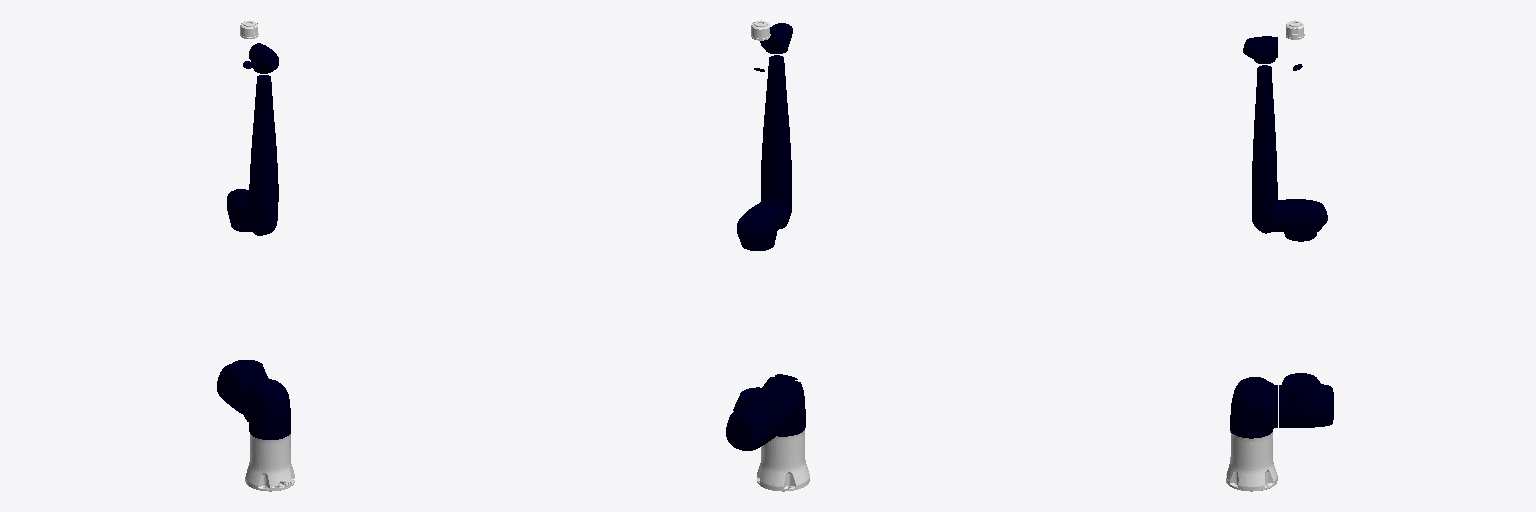
The robot description file, URDF, robot "p3020":
<?xml version="1.0" ?>
<!-- =================================================================================== -->
<!-- |    This document was autogenerated by xacro from /home/theochoi/ros2_ws/src/doosan-robot2-Theo/dsr_description2/xacro/p3020.urdf.xacro | -->
<!-- |    EDITING THIS FILE BY HAND IS NOT RECOMMENDED                                 | -->
<!-- =================================================================================== -->
<robot name="p3020">

  <mujoco>
        <compiler 
        meshdir="assets" 
        balanceinertia="true" 
        discardvisual="false" />
  </mujoco>

  
  <material name="black">
    <color rgba="0.0 0.0 0.0 1.0"/>
  </material>
  <material name="white">
    <color rgba="1.0 1.0 1.0 1.0"/>
  </material>
  <material name="orange">
    <color rgba="1.0 0.4 0.0 1.0"/>
  </material>
  <material name="dr_gray">
    <color rgba="0.490 0.490 0.486 1.0"/>
  </material>
  <material name="dr_white">
    <color rgba="0.941 0.941 0.941 1.0"/>
  </material>
  <material name="dr_blue">
    <color rgba="0 0 0.15 1"/>
  </material>
  <!-- Base Link -->
  <link name="base_link">
    <inertial>
      <mass value="9.55"/>
      <origin xyz="6e-06   -0.007232     0.10749"/>
      <inertia ixx="0.11196" ixy="1.4011e-05" ixz="-0.0049962" iyy="0.0065009" iyz="-0.004993" izz="0.0056525"/>
    </inertial>
    <visual>
      <origin rpy="0 0 0" xyz="0 0 0"/>
      <geometry>
        <mesh filename="P3020_0_1.STL" scale="0.001 0.001 0.001"/>
      </geometry>
      <material name="dr_white"/>
    </visual>
  </link>
  <!-- link_1 -->
  <link name="link_1">
    <inertial>
      <mass value="28.624"/>
      <origin xyz="-1.1e-05     0.11205   -0.065579"/>
      <inertia ixx="0.69287" ixy="4.9232e-05" ixz="-0.21299" iyy="0.36715" iyz="-0.00012952" izz="0.46086"/>
    </inertial>
    <visual>
      <origin xyz="0 0 -0.3943"/>
      <geometry>
        <mesh filename="P3020_1_1.STL" scale="0.001 0.001 0.001"/>
      </geometry>
      <material name="dr_blue"/>
    </visual>
    <visual>
      <origin xyz="0 0 -0.3943"/>
      <geometry>
        <mesh filename="P3020_1_2.STL" scale="0.001 0.001 0.001"/>
      </geometry>
      <material name="dr_blue"/>
    </visual>
    <visual>
      <origin xyz="0 0 -0.3943"/>
      <geometry>
        <mesh filename="P3020_1_3.STL" scale="0.001 0.001 0.001"/>
      </geometry>
      <material name="dr_blue"/>
    </visual>
    <visual>
      <origin xyz="0 0 -0.3943"/>
      <geometry>
        <mesh filename="P3020_1_4.STL" scale="0.001 0.001 0.001"/>
      </geometry>
      <material name="dr_blue"/>
    </visual>
    <visual>
      <origin xyz="0 0 -0.3943"/>
      <geometry>
        <mesh filename="P3020_1_5.STL" scale="0.001 0.001 0.001"/>
      </geometry>
      <material name="dr_blue"/>
    </visual>
  </link>
  <!-- link_2 -->
  <link name="link_2">
    <inertial>
      <mass value="30.357"/>
      <origin xyz="0.4005       5e-06    0.006736"/>
      <inertia ixx="0.17985" ixy="0.214" ixz="0.00018611" iyy="4.5411" iyz="-7.1656e-05" izz="4.4825"/>
    </inertial>
    <visual>
      <!-- <origin xyz="0 -0.2351 -0.3943" rpy="0  -1.5708 -1.-0.3943708"/> -->
      <origin rpy="1.5708 0 1.5708" xyz="-0.3943 0 -0.2351"/>
      <geometry>
        <mesh filename="P3020_2_1.STL" scale="0.001 0.001 0.001"/>
      </geometry>
      <material name="dr_blue"/>
    </visual>
    <visual>
      <!-- <origin xyz="0 -0.2351 -0.3943" rpy="-1.5708  -1.5708 -1.5708"/> -->
      <origin rpy="1.5708 0 1.5708" xyz="-0.3943 0 -0.2351"/>
      <geometry>
        <mesh filename="P3020_2_2.STL" scale="0.001 0.001 0.001"/>
      </geometry>
      <material name="dr_blue"/>
    </visual>
    <visual>
      <!-- <origin xyz="0 -0.2351 -0.3943" rpy="-1.5708  0 1.5708"/> -->
      <origin rpy="1.5708 0 1.5708" xyz="-0.3943 0 -0.2351"/>
      <geometry>
        <mesh filename="P3020_2_3.STL" scale="0.001 0.001 0.001"/>
      </geometry>
      <material name="dr_blue"/>
    </visual>
    <visual>
      <!-- <origin xyz="0 -0.2351 -0.3943" rpy="-1.5708  0 1.5708"/> -->
      <origin rpy="1.5708 0 1.5708" xyz="-0.3943 0 -0.2351"/>
      <geometry>
        <mesh filename="P3020_2_4.STL" scale="0.001 0.001 0.001"/>
      </geometry>
      <material name="dr_blue"/>
    </visual>
    <visual>
      <!-- <origin xyz="0 -0.2351 -0.3943" rpy="-1.5708  0 1.5708"/> -->
      <origin rpy="1.5708 0 1.5708" xyz="-0.3943 0 -0.2351"/>
      <geometry>
        <mesh filename="P3020_2_5.STL" scale="0.001 0.001 0.001"/>
      </geometry>
      <material name="dr_blue"/>
    </visual>
    <visual>
      <!-- <origin xyz="0 -0.2351 -0.3943" rpy="-1.5708  0 1.5708"/> -->
      <origin rpy="1.5708 0 1.5708" xyz="-0.3943 0 -0.2351"/>
      <geometry>
        <mesh filename="P3020_2_6.STL" scale="0.001 0.001 0.001"/>
      </geometry>
      <material name="dr_blue"/>
    </visual>
    <visual>
      <!-- <origin xyz="0 -0.2351 -0.3943" rpy="-1.5708  0 1.5708"/> -->
      <origin rpy="1.5708 0 1.5708" xyz="-0.3943 0 -0.2351"/>
      <geometry>
        <mesh filename="P3020_2_7.STL" scale="0.001 0.001 0.001"/>
      </geometry>
      <material name="dr_blue"/>
    </visual>
    <visual>
      <!-- <origin xyz="0 -0.2351 -0.3943" rpy="-1.5708  0 1.5708"/> -->
      <origin rpy="1.5708 0 1.5708" xyz="-0.3943 0 -0.2351"/>
      <geometry>
        <mesh filename="P3020_2_8.STL" scale="0.001 0.001 0.001"/>
      </geometry>
      <material name="dr_blue"/>
    </visual>
  </link>
  <!-- link_3 -->
  <link name="link_3">
    <inertial>
      <mass value="2.836"/>
      <origin xyz="1.8e-05   -0.010564    -0.12656"/>
      <inertia ixx="0.01971" ixy="-0.00099331" ixz="4.2183e-06" iyy="0.017956" iyz="3.5784e-06" izz="0.017026"/>
    </inertial>
    <visual>
      <origin rpy="1.5708 0 0" xyz="0 1.4043 -0.2351"/>
      <geometry>
        <mesh filename="P3020_3_1.STL" scale="0.001 0.001 0.001"/>
      </geometry>
      <material name="dr_blue"/>
    </visual>
    <visual>
      <origin rpy="1.5708 0 0" xyz="0 1.4043 -0.2351"/>
      <geometry>
        <mesh filename="P3020_3_2.STL" scale="0.001 0.001 0.001"/>
      </geometry>
      <material name="dr_blue"/>
    </visual>
    <visual>
      <origin rpy="1.5708 0 0" xyz="0 1.4043 -0.2351"/>
      <geometry>
        <mesh filename="P3020_3_3.STL" scale="0.001 0.001 0.001"/>
      </geometry>
      <material name="dr_blue"/>
    </visual>
    <visual>
      <origin rpy="1.5708 0 0" xyz="0 1.4043 -0.2351"/>
      <geometry>
        <mesh filename="P3020_3_4.STL" scale="0.001 0.001 0.001"/>
      </geometry>
      <material name="dr_blue"/>
    </visual>
  </link>
  <!-- link_4 (Dummy Link for joint_4) -->
  <link name="link_4">
    <inertial>
      <mass value="6.057"/>
      <origin xyz="-2.2e-05    -0.12656    -0.30746"/>
      <inertia ixx="0.56389" ixy="5.1281e-06" ixz="-0.00030672" iyy="0.56341" iyz="3.2061e-05" izz="0.023517"/>
    </inertial>
  </link>
  <!-- link_5 -->
  <link name="link_5">
    <inertial>
      <mass value="2.959"/>
      <origin xyz="2.9e-05    -0.00224   -0.050131"/>
      <inertia ixx="0.016572" ixy="6.5264e-05" ixz="7.6867e-06" iyy="0.013688" iyz="2.1143e-06" izz="0.0099949"/>
    </inertial>
    <visual>
      <origin rpy="1.5708 0 0" xyz="0 2.2943 -0.2079"/>
      <geometry>
        <mesh filename="P3020_5_1.STL" scale="0.001 0.001 0.001"/>
      </geometry>
      <material name="dr_blue"/>
    </visual>
    <visual>
      <origin rpy="1.5708 0 0" xyz="0 2.2943 -0.2079"/>
      <geometry>
        <mesh filename="P3020_5_2.STL" scale="0.001 0.001 0.001"/>
      </geometry>
      <material name="dr_blue"/>
    </visual>
    <visual>
      <origin rpy="1.5708 0 0" xyz="0 2.2943 -0.2079"/>
      <geometry>
        <mesh filename="P3020_5_3.STL" scale="0.001 0.001 0.001"/>
      </geometry>
      <material name="dr_blue"/>
    </visual>
  </link>
  <!-- link_6 -->
  <link name="link_6">
    <inertial>
      <mass value="1.087"/>
      <origin xyz="-0.000232   -0.027102   -0.055618"/>
      <inertia ixx="0.007557" ixy="6.9478e-06" ixz="-1.1434e-06" iyy="0.0071074" iyz="5.748e-06" izz="0.0078136"/>
    </inertial>
    <visual>
      <origin rpy="0 0 0" xyz="0 -0.2079 -2.4243"/>
      <geometry>
        <mesh filename="P3020_6_1.STL" scale="0.001 0.001 0.001"/>
      </geometry>
      <material name="dr_white"/>
    </visual>
  </link>
  <!-- Joints -->
  <joint name="joint_1" type="revolute">
    <parent link="base_link"/>
    <child link="link_1"/>
    <origin rpy="0  0  0" xyz="0           0      0.3943"/>
    <axis xyz="0 0 1"/>
    <limit effort="459" lower="-6.2832" upper="6.2832" velocity="1.7453"/>
  </joint>
  <joint name="joint_2" type="revolute">
    <parent link="link_1"/>
    <child link="link_2"/>
    <origin rpy="0     -1.5708     -1.5708" xyz="0      0.2351           0"/>
    <axis xyz="0 0 1"/>
    <limit effort="841" lower="-2.1817" upper="2.1817" velocity="1.3963"/>
  </joint>
  <joint name="joint_3" type="revolute">
    <parent link="link_2"/>
    <child link="link_3"/>
    <origin rpy="0           0      1.5708" xyz="1.01           0           0"/>
    <axis xyz="0 0 1"/>
    <limit effort="484" lower="-2.7925" upper="2.7925" velocity="1.3963"/>
  </joint>
  <!-- Dummy joint_4 -->
  <joint name="joint_4" type="fixed">
    <parent link="link_3"/>
    <child link="link_4"/>
    <origin rpy="1.5708           0           0" xyz="0       -0.89           -0.1731"/>
    <axis xyz="0 0 1"/>
    <!-- <limit effort="163" lower="0" upper="0" velocity="0"/> -->
  </joint>
  <joint name="joint_5" type="revolute">
    <parent link="link_4"/>
    <child link="link_5"/>
    <origin rpy="-1.5708           0           0" xyz="0  0.1459  0"/>
    <axis xyz="0 0 1"/>
    <limit effort="70" lower="-6.2832" upper="6.2832" velocity="3.4907"/>
  </joint>
  <joint name="joint_6" type="revolute">
    <parent link="link_5"/>
    <child link="link_6"/>
    <origin rpy="1.5708           0           0" xyz="0       -0.13           0"/>
    <axis xyz="0 0 1"/>
    <limit effort="50" lower="-6.2832" upper="6.2832" velocity="6.2832"/>
  </joint>
  <!-- Transmission 1 -->
  <transmission name="tran1">
    <type>transmission_interface/SimpleTransmission</type>
    <joint name="joint1">
      <hardwareInterface>hardware_interface/PositionJointInterface</hardwareInterface>
    </joint>
    <actuator name="motor1">
      <hardwareInterface>hardware_interface/PositionJointInterface</hardwareInterface>
      <mechanicalReduction>1</mechanicalReduction>
    </actuator>
  </transmission>
  <!-- Transmission 2 -->
  <transmission name="tran2">
    <type>transmission_interface/SimpleTransmission</type>
    <joint name="joint2">
      <hardwareInterface>hardware_interface/PositionJointInterface</hardwareInterface>
    </joint>
    <actuator name="motor2">
      <hardwareInterface>hardware_interface/PositionJointInterface</hardwareInterface>
      <mechanicalReduction>1</mechanicalReduction>
    </actuator>
  </transmission>
  <!-- Transmission 3 -->
  <transmission name="tran3">
    <type>transmission_interface/SimpleTransmission</type>
    <joint name="joint3">
      <hardwareInterface>hardware_interface/PositionJointInterface</hardwareInterface>
    </joint>
    <actuator name="motor3">
      <hardwareInterface>hardware_interface/PositionJointInterface</hardwareInterface>
      <mechanicalReduction>1</mechanicalReduction>
    </actuator>
  </transmission>
  <!-- Transmission 4 -->
  <transmission name="tran4">
    <type>transmission_interface/SimpleTransmission</type>
    <joint name="joint4">
      <hardwareInterface>hardware_interface/PositionJointInterface</hardwareInterface>
    </joint>
    <actuator name="motor4">
      <hardwareInterface>hardware_interface/PositionJointInterface</hardwareInterface>
      <mechanicalReduction>1</mechanicalReduction>
    </actuator>
  </transmission>
  <!-- Transmission 5 -->
  <transmission name="tran5">
    <type>transmission_interface/SimpleTransmission</type>
    <joint name="joint5">
      <hardwareInterface>hardware_interface/PositionJointInterface</hardwareInterface>
    </joint>
    <actuator name="motor5">
      <hardwareInterface>hardware_interface/PositionJointInterface</hardwareInterface>
      <mechanicalReduction>1</mechanicalReduction>
    </actuator>
  </transmission>
  <!-- Transmission 6 -->
  <transmission name="tran6">
    <type>transmission_interface/SimpleTransmission</type>
    <joint name="joint6">
      <hardwareInterface>hardware_interface/PositionJointInterface</hardwareInterface>
    </joint>
    <actuator name="motor6">
      <hardwareInterface>hardware_interface/PositionJointInterface</hardwareInterface>
      <mechanicalReduction>1</mechanicalReduction>
    </actuator>
  </transmission>
  <!-- ros_control plugin -->
  <gazebo>
    <plugin filename="ign_ros2_control-system" name="ign_ros2_control::IgnitionROS2ControlPlugin">
      <ros>
        <namespace></namespace>
      </ros>
      <parameters>/home/theochoi/ros2_ws/install/dsr_controller2/share/dsr_controller2/config/dsr_controller2_gz_p3020.yaml</parameters>
    </plugin>
  </gazebo>
  <!-- Base -->
  <gazebo reference="base_0">
    <kp>100000.0</kp>
    <kd>100.0</kd>
    <mu1>30.0</mu1>
    <mu2>30.0</mu2>
    <maxVel>1.0</maxVel>
    <minDepth>0.001</minDepth>
  </gazebo>
  <!-- Link1 -->
  <gazebo reference="link1">
    <kp>100000.0</kp>
    <kd>100.0</kd>
    <mu1>30.0</mu1>
    <mu2>30.0</mu2>
    <maxVel>1.0</maxVel>
    <minDepth>0.001</minDepth>
  </gazebo>
  <!-- Link2 -->
  <gazebo reference="link2">
    <kp>100000.0</kp>
    <kd>100.0</kd>
    <mu1>30.0</mu1>
    <mu2>30.0</mu2>
    <maxVel>1.0</maxVel>
    <minDepth>0.001</minDepth>
  </gazebo>
  <!-- Link3 -->
  <gazebo reference="link3">
    <kp>100000.0</kp>
    <kd>100.0</kd>
    <mu1>30.0</mu1>
    <mu2>30.0</mu2>
    <maxVel>1.0</maxVel>
    <minDepth>0.001</minDepth>
  </gazebo>
  <!-- Link4 -->
  <gazebo reference="link4">
    <kp>100000.0</kp>
    <kd>100.0</kd>
    <mu1>30.0</mu1>
    <mu2>30.0</mu2>
    <maxVel>1.0</maxVel>
    <minDepth>0.001</minDepth>
  </gazebo>
  <!-- Link5 -->
  <gazebo reference="link5">
    <kp>100000.0</kp>
    <kd>100.0</kd>
    <mu1>30.0</mu1>
    <mu2>30.0</mu2>
    <maxVel>1.0</maxVel>
    <minDepth>0.001</minDepth>
  </gazebo>
  <!-- Link6 -->
  <gazebo reference="link6">
    <kp>100000.0</kp>
    <kd>100.0</kd>
    <mu1>30.0</mu1>
    <mu2>30.0</mu2>
    <maxVel>1.0</maxVel>
    <minDepth>0.001</minDepth>
  </gazebo>
  <!-- World fixed joint-->
  <link name="world"/>
  <joint name="world_fixed" type="fixed">
    <origin rpy="0 0 0" xyz="0 0 0"/>
    <parent link="world"/>
    <child link="base_link"/>
  </joint>
  <ros2_control name="p3020" type="system">
    <hardware>
      <plugin>dsr_hardware2/DRHWInterface</plugin>
      <param name="host"></param>
      <param name="rt_host"></param>
      <param name="port"></param>
      <param name="mode"></param>
      <param name="model"></param>
    </hardware>
    <joint name="joint_1">
      <command_interface name="position">
        <param name="min">{-2*pi}</param>
        <param name="max">{2*pi}</param>
      </command_interface>
      <command_interface name="velocity">
        <param name="min">-3.15</param>
        <param name="max">3.15</param>
      </command_interface>
      <state_interface name="position">
        <param name="initial_value">0.0</param>
      </state_interface>
      <state_interface name="velocity"/>
    </joint>
    <joint name="joint_2">
      <command_interface name="position">
        <param name="min">{-2*pi}</param>
        <param name="max">{2*pi}</param>
      </command_interface>
      <command_interface name="velocity">
        <param name="min">-3.15</param>
        <param name="max">3.15</param>
      </command_interface>
      <state_interface name="position">
        <param name="initial_value">0.0</param>
      </state_interface>
      <state_interface name="velocity"/>
    </joint>
    <joint name="joint_3">
      <command_interface name="position">
        <param name="min">{-pi}</param>
        <param name="max">{pi}</param>
      </command_interface>
      <command_interface name="velocity">
        <param name="min">-3.15</param>
        <param name="max">3.15</param>
      </command_interface>
      <state_interface name="position">
        <param name="initial_value">0.0</param>
      </state_interface>
      <state_interface name="velocity"/>
    </joint>
    <joint name="joint_4">
      <command_interface name="position">
        <param name="min">0.0</param>
        <param name="max">0.0</param>
      </command_interface>
      <command_interface name="velocity">
        <param name="min">0.0</param>
        <param name="max">0.0</param>
      </command_interface>
      <state_interface name="position">
        <param name="initial_value">0.0</param>
      </state_interface>
      <state_interface name="velocity"/>
    </joint>
    <joint name="joint_5">
      <command_interface name="position">
        <param name="min">{-2*pi}</param>
        <param name="max">{2*pi}</param>
      </command_interface>
      <command_interface name="velocity">
        <param name="min">-3.2</param>
        <param name="max">3.2</param>
      </command_interface>
      <state_interface name="position">
        <param name="initial_value">0.0</param>
      </state_interface>
      <state_interface name="velocity"/>
    </joint>
    <joint name="joint_6">
      <command_interface name="position">
        <param name="min">{-2*pi}</param>
        <param name="max">{2*pi}</param>
      </command_interface>
      <command_interface name="velocity">
        <param name="min">-3.2</param>
        <param name="max">3.2</param>
      </command_interface>
      <state_interface name="position">
        <param name="initial_value">0.0</param>
      </state_interface>
      <state_interface name="velocity"/>
    </joint>
  </ros2_control>
</robot>

--- What the picture shows (computed from the rendered views, not written in the file) ---
Views: 3 orthographic renders of the robot side by side, from view 1: azimuth 30°, elevation 25°; view 2: azimuth 150°, elevation 25°; view 3: azimuth 270°, elevation 25°.
Robot: p3020 — 8 links, 7 joints (5 revolute, 2 fixed); root link world; default pose: every joint at zero.
Links seen in each view (by area): view 1: link_3, link_1, base_link, link_2; view 2: link_3, link_2, base_link, link_1; view 3: link_3, link_2, link_1, base_link.
Link boxes in pixels (box(x1,y1,x2,y2)): link_3: box(243, 43, 278, 235); link_1: box(240, 379, 290, 439); base_link: box(245, 434, 294, 491); link_2: box(217, 189, 268, 413); link_3: box(760, 23, 792, 228); link_2: box(726, 202, 787, 450); base_link: box(757, 430, 809, 491); link_1: box(762, 374, 805, 436); link_3: box(1243, 36, 1280, 233); link_2: box(1279, 199, 1333, 427); link_1: box(1230, 377, 1277, 438); base_link: box(1226, 431, 1277, 491).
Bounding box of the posed robot: 0.2479 × 0.519 × 2.42 m (x, y, z).
15 mesh visuals loaded from 22 distinct referenced files (15 binary STL); not drawn: 7 (reference not matched to a file when rendering).
